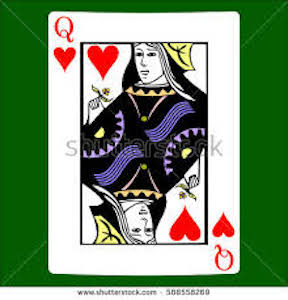QueenOfHearts: (43, 7, 245, 279)
